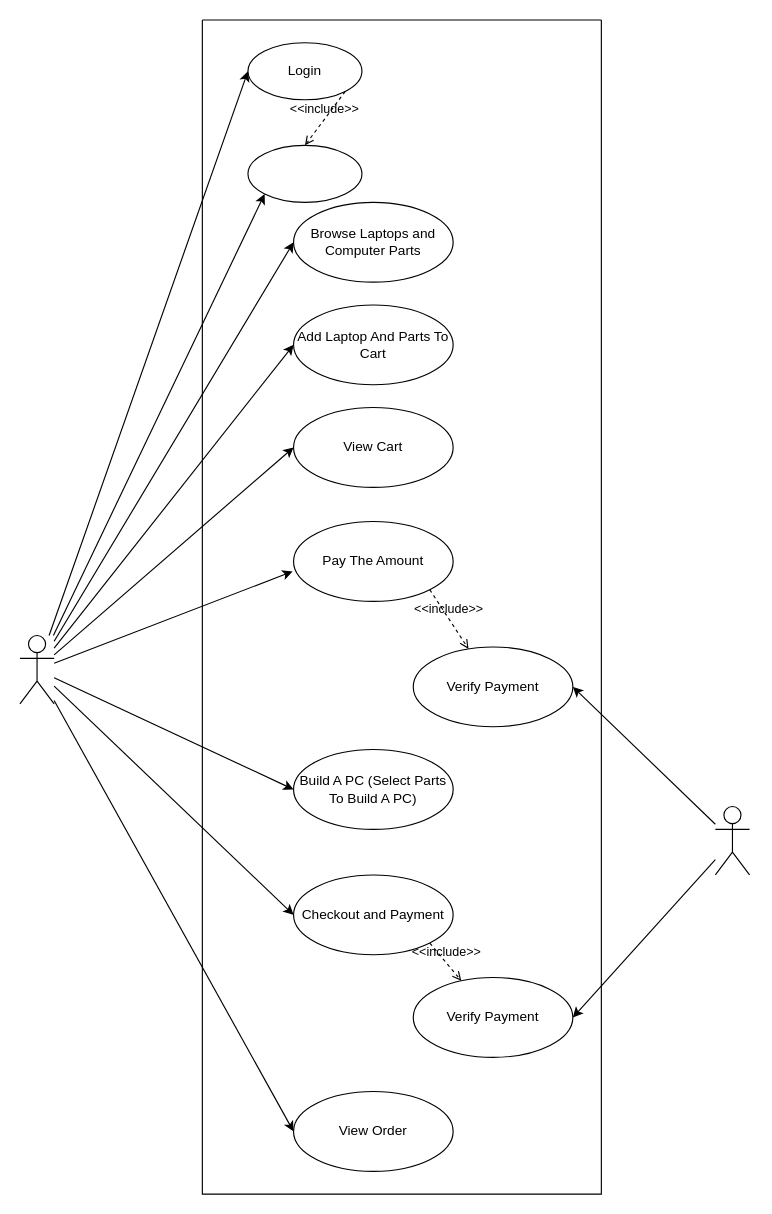
This 772x1214 diagram has some shape labels left out. The shapes that lost their labels are listed below. From the top down, each one's box as (x1, y1, x2, y2) in pixels, then its label:
(247, 144, 362, 202): Register
(19, 634, 54, 704): User
(714, 805, 750, 875): Admin
